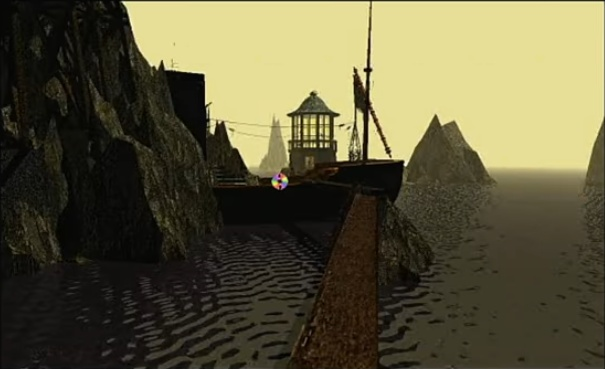Waiting: (268, 168, 291, 191)
